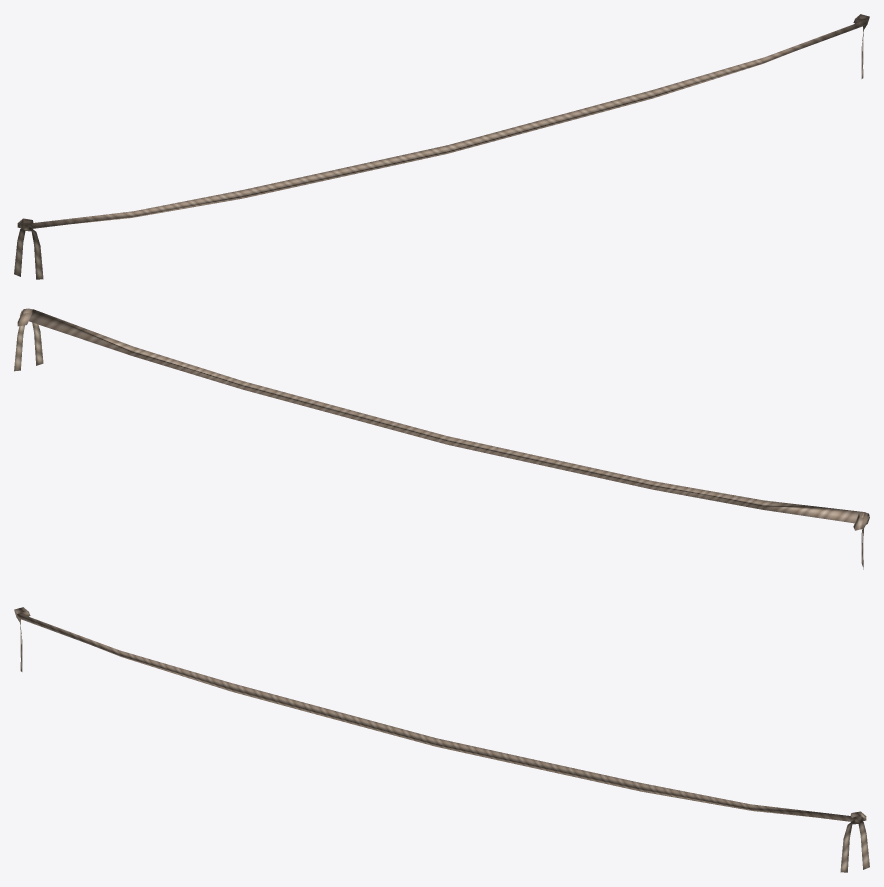
File: jsf_2P_String_s01_04.fbx
3 renders of one model, top to bottom at view 1: azimuth 30°, elevation 25°; view 2: azimuth 150°, elevation 25°; view 3: azimuth 330°, elevation 25°, orthographic.
Visible parts, largest first — view 1: jsf_2P_String_s01_04; view 2: jsf_2P_String_s01_04; view 3: jsf_2P_String_s01_04.
Part boxes in pixels (x1,y1,x2,y2): jsf_2P_String_s01_04: (14,14,869,279); jsf_2P_String_s01_04: (14,308,869,569); jsf_2P_String_s01_04: (14,607,869,872).
Bounding box in the file's own units: 150 × 9.72 × 4.94.
